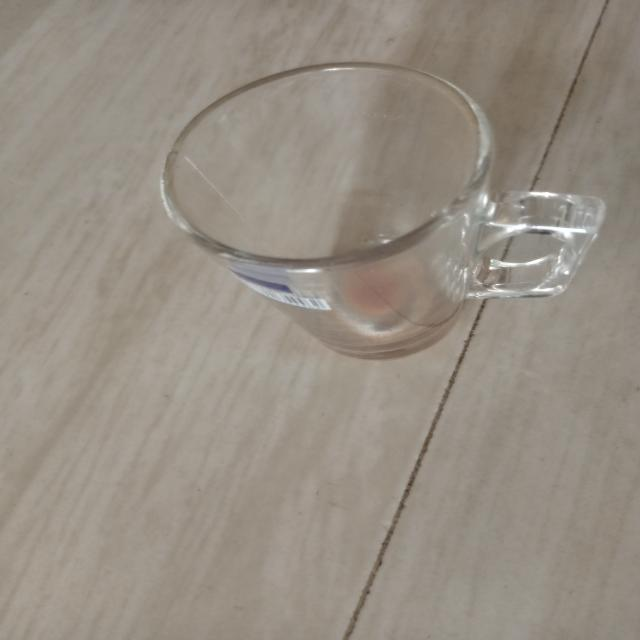glass-VX4N: (162, 62, 604, 363)
